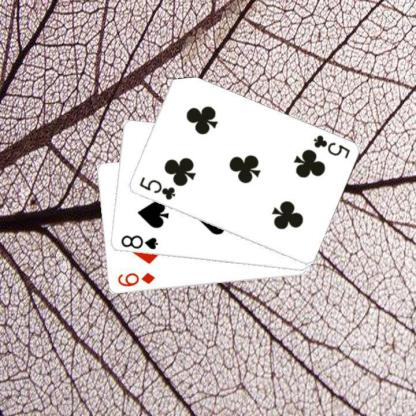5C: (310, 132, 351, 160), (136, 174, 176, 202)
6D: (114, 270, 156, 288)
8S: (118, 233, 159, 251)
